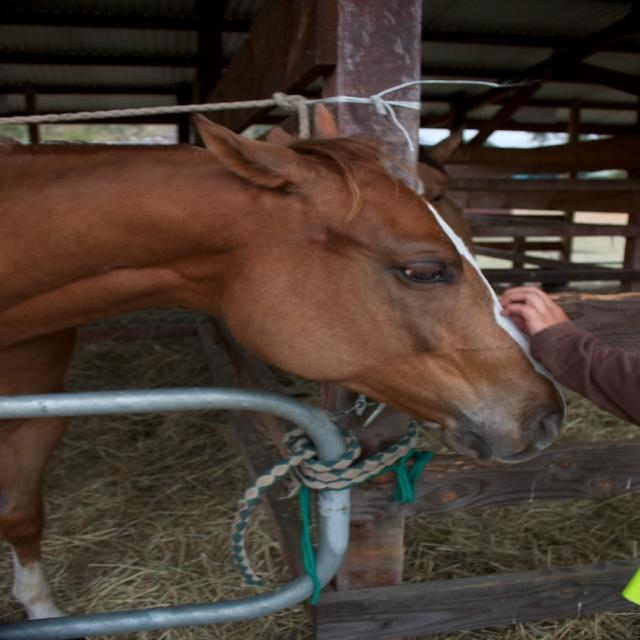Horse: (0, 109, 569, 620)
